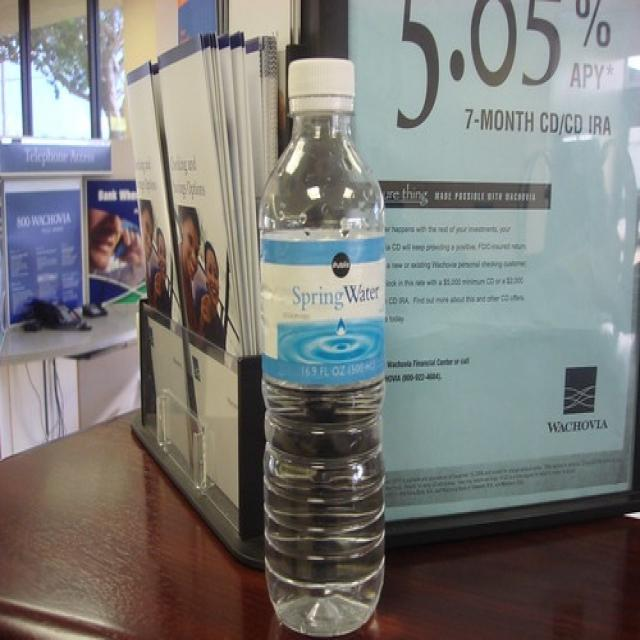plastic_bottle: (258, 58, 387, 635)
